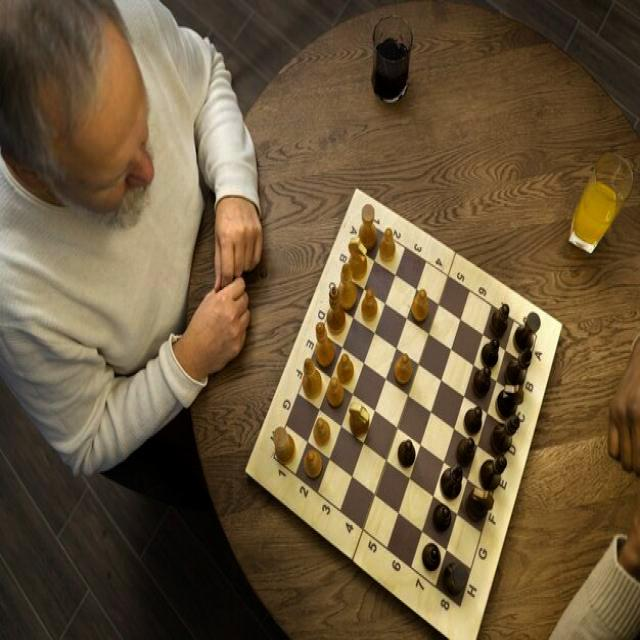chess-table-corners: (453, 597, 468, 617), (533, 332, 541, 343)
